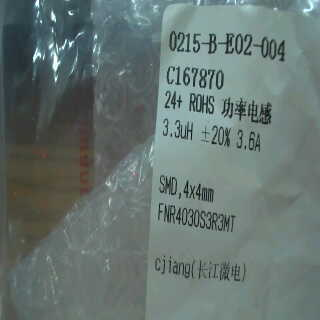3.3uH: (157, 116, 193, 142)
